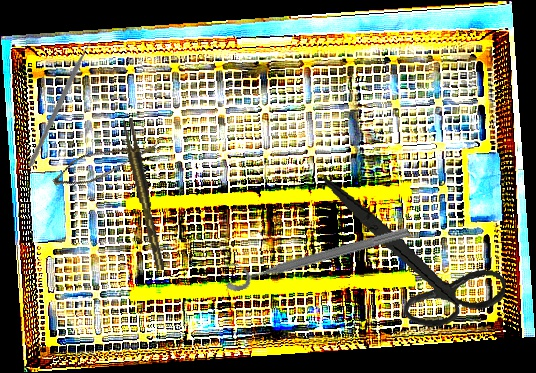Chopper: (15, 37, 116, 167)
Fixation Ring: (220, 212, 412, 294)
Iris Scissors: (305, 176, 518, 337)
Micro Scissor: (49, 119, 162, 204)
Tissue Forceps: (121, 116, 165, 273)
